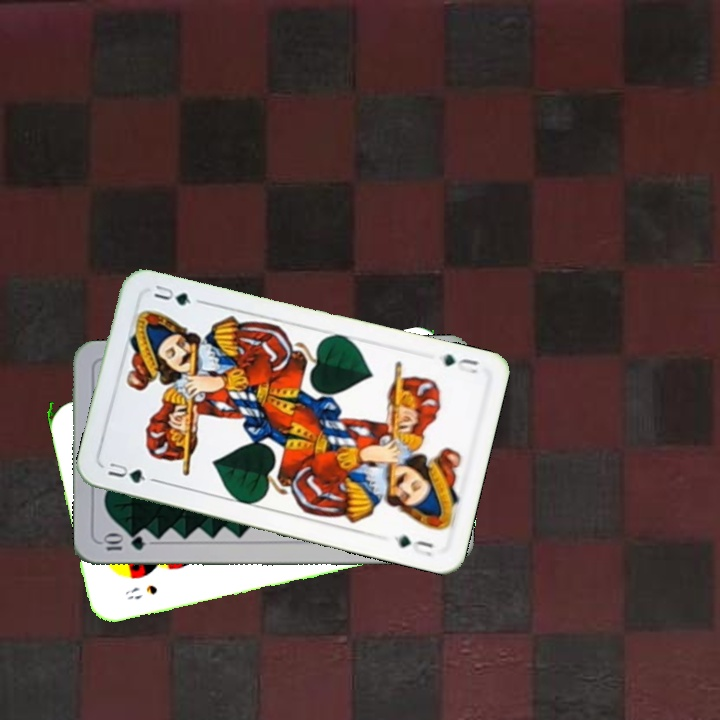G10: (98, 533, 147, 553)
GU: (103, 458, 158, 486), (439, 349, 482, 376)
S8: (121, 581, 160, 603)
